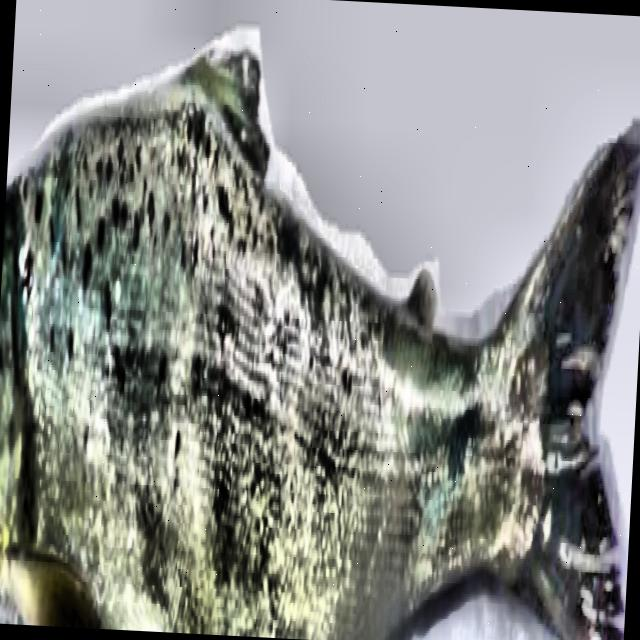mild_red: (0, 52, 539, 640)
